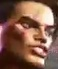kevin: (4, 0, 53, 64)
